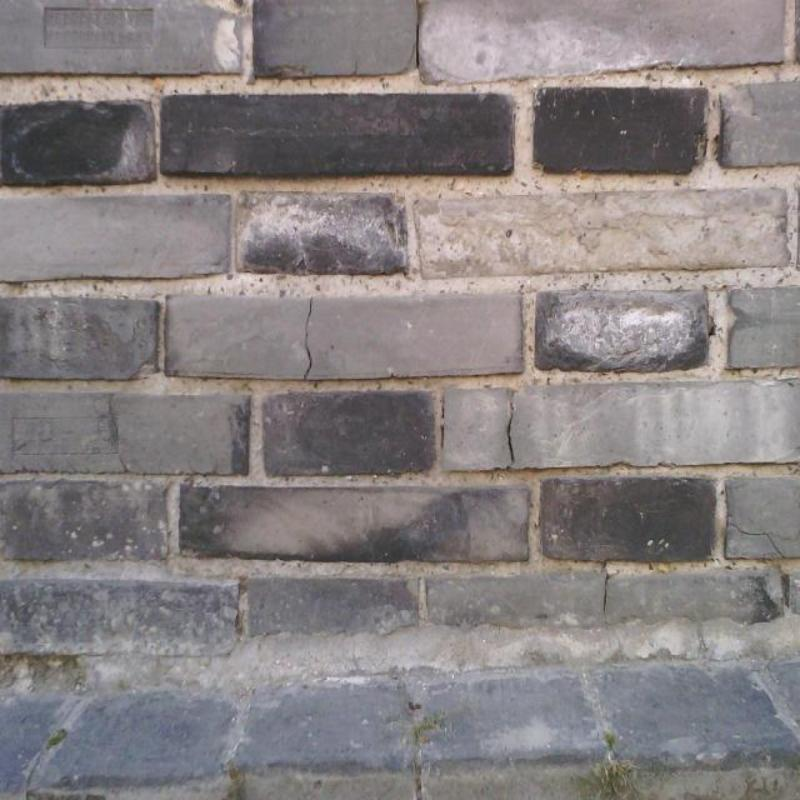pothole: (728, 524, 785, 559), (505, 392, 517, 469), (304, 297, 313, 379), (415, 24, 420, 71), (603, 573, 609, 612)
